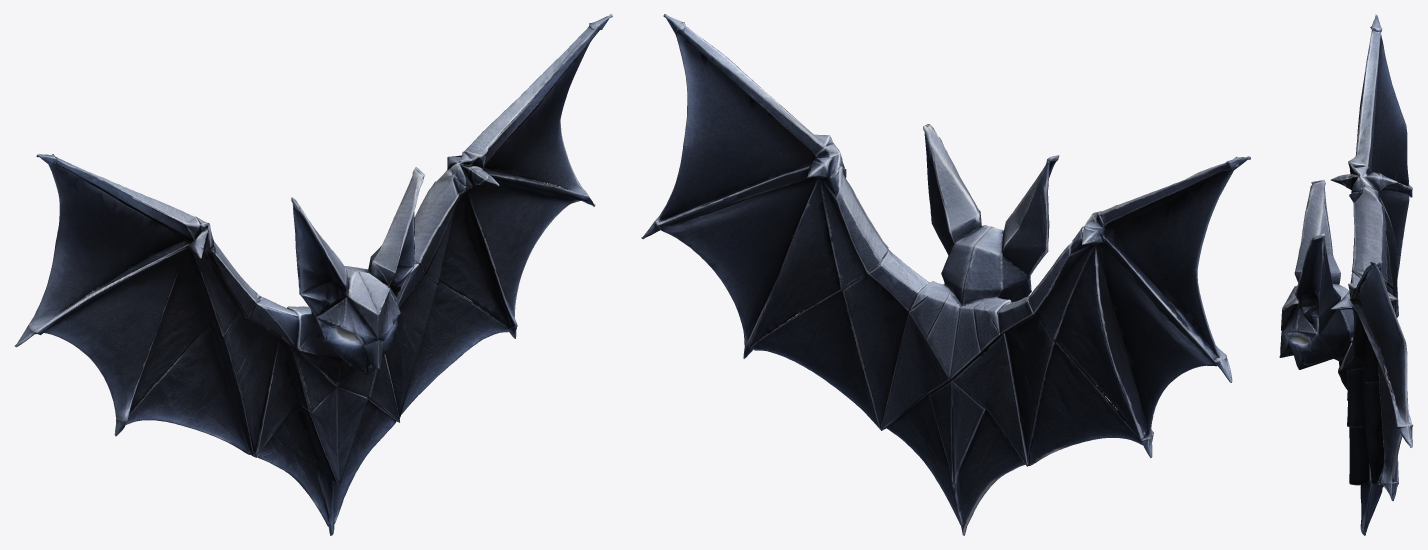
File: bat.glb
3 views of the same model, side by side, from view 1: azimuth 30°, elevation 25°; view 2: azimuth 150°, elevation 25°; view 3: azimuth 270°, elevation 25° (orthographic). The views are drawn at different scales.
Visible parts, largest first — view 1: tripo_part_1, tripo_part_2, tripo_part_0, tripo_part_5, tripo_part_12, tripo_part_10, tripo_part_3, tripo_part_9, tripo_part_11, tripo_part_4, tripo_part_7, tripo_part_6 (+1 smaller); view 2: tripo_part_0, tripo_part_2, tripo_part_7, tripo_part_3, tripo_part_5, tripo_part_11, tripo_part_12, tripo_part_14, tripo_part_10, tripo_part_13, tripo_part_1, tripo_part_8 (+2 smaller); view 3: tripo_part_1, tripo_part_2, tripo_part_7, tripo_part_12, tripo_part_0, tripo_part_8, tripo_part_4, tripo_part_6, tripo_part_11, tripo_part_10, tripo_part_5, tripo_part_13.
Boxes of the visible parts, x1,y1,x2,y2 form: tripo_part_1: (279, 266, 400, 535); tripo_part_2: (14, 154, 330, 535); tripo_part_0: (302, 14, 612, 523); tripo_part_5: (125, 249, 253, 454); tripo_part_12: (29, 155, 185, 325); tripo_part_10: (44, 248, 188, 416); tripo_part_3: (401, 199, 509, 414); tripo_part_9: (188, 250, 278, 457); tripo_part_11: (469, 183, 580, 316); tripo_part_4: (385, 187, 517, 418); tripo_part_7: (484, 43, 595, 206); tripo_part_6: (291, 197, 348, 318); tripo_part_0: (656, 14, 1003, 525); tripo_part_2: (953, 156, 1250, 535); tripo_part_7: (641, 17, 814, 239); tripo_part_3: (749, 178, 880, 429); tripo_part_5: (1028, 245, 1142, 465); tripo_part_11: (660, 177, 816, 343); tripo_part_12: (1113, 157, 1250, 357); tripo_part_14: (813, 178, 908, 423); tripo_part_10: (1100, 247, 1216, 440); tripo_part_13: (1002, 248, 1092, 460); tripo_part_1: (941, 225, 1031, 535); tripo_part_8: (923, 124, 981, 255); tripo_part_1: (1279, 282, 1371, 535); tripo_part_2: (1330, 14, 1412, 291); tripo_part_7: (1357, 264, 1412, 447); tripo_part_12: (1371, 34, 1408, 185); tripo_part_0: (1330, 261, 1412, 528); tripo_part_8: (1294, 233, 1341, 334); tripo_part_4: (1363, 340, 1398, 501); tripo_part_6: (1294, 180, 1340, 284); tripo_part_11: (1378, 361, 1402, 483); tripo_part_10: (1379, 189, 1409, 278); tripo_part_5: (1380, 197, 1397, 311); tripo_part_13: (1386, 233, 1393, 302).
Size of the model in its own units: 0.9818 by 0.7227 by 0.2211.
1 material, 1 textured.
